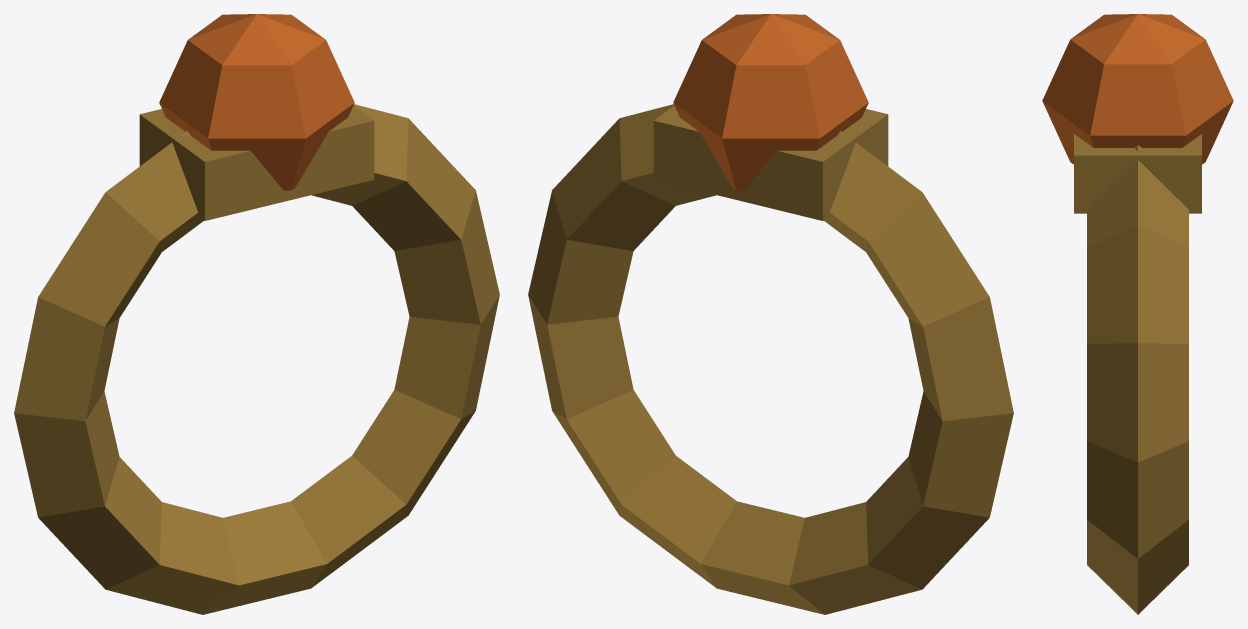
File: ring-tech.glb
3 views of the same model, side by side, from view 1: azimuth 30°, elevation 25°; view 2: azimuth 150°, elevation 25°; view 3: azimuth 270°, elevation 25° (orthographic). The views are drawn at different scales.
Visible parts, largest first — view 1: m; view 2: m; view 3: m.
Part boxes in pixels (x1,y1,x2,y2): m: [14, 14, 499, 614]; m: [528, 14, 1013, 614]; m: [1042, 14, 1233, 614].
Size of the model in its own units: 0.03 by 0.0347 by 0.0105.
